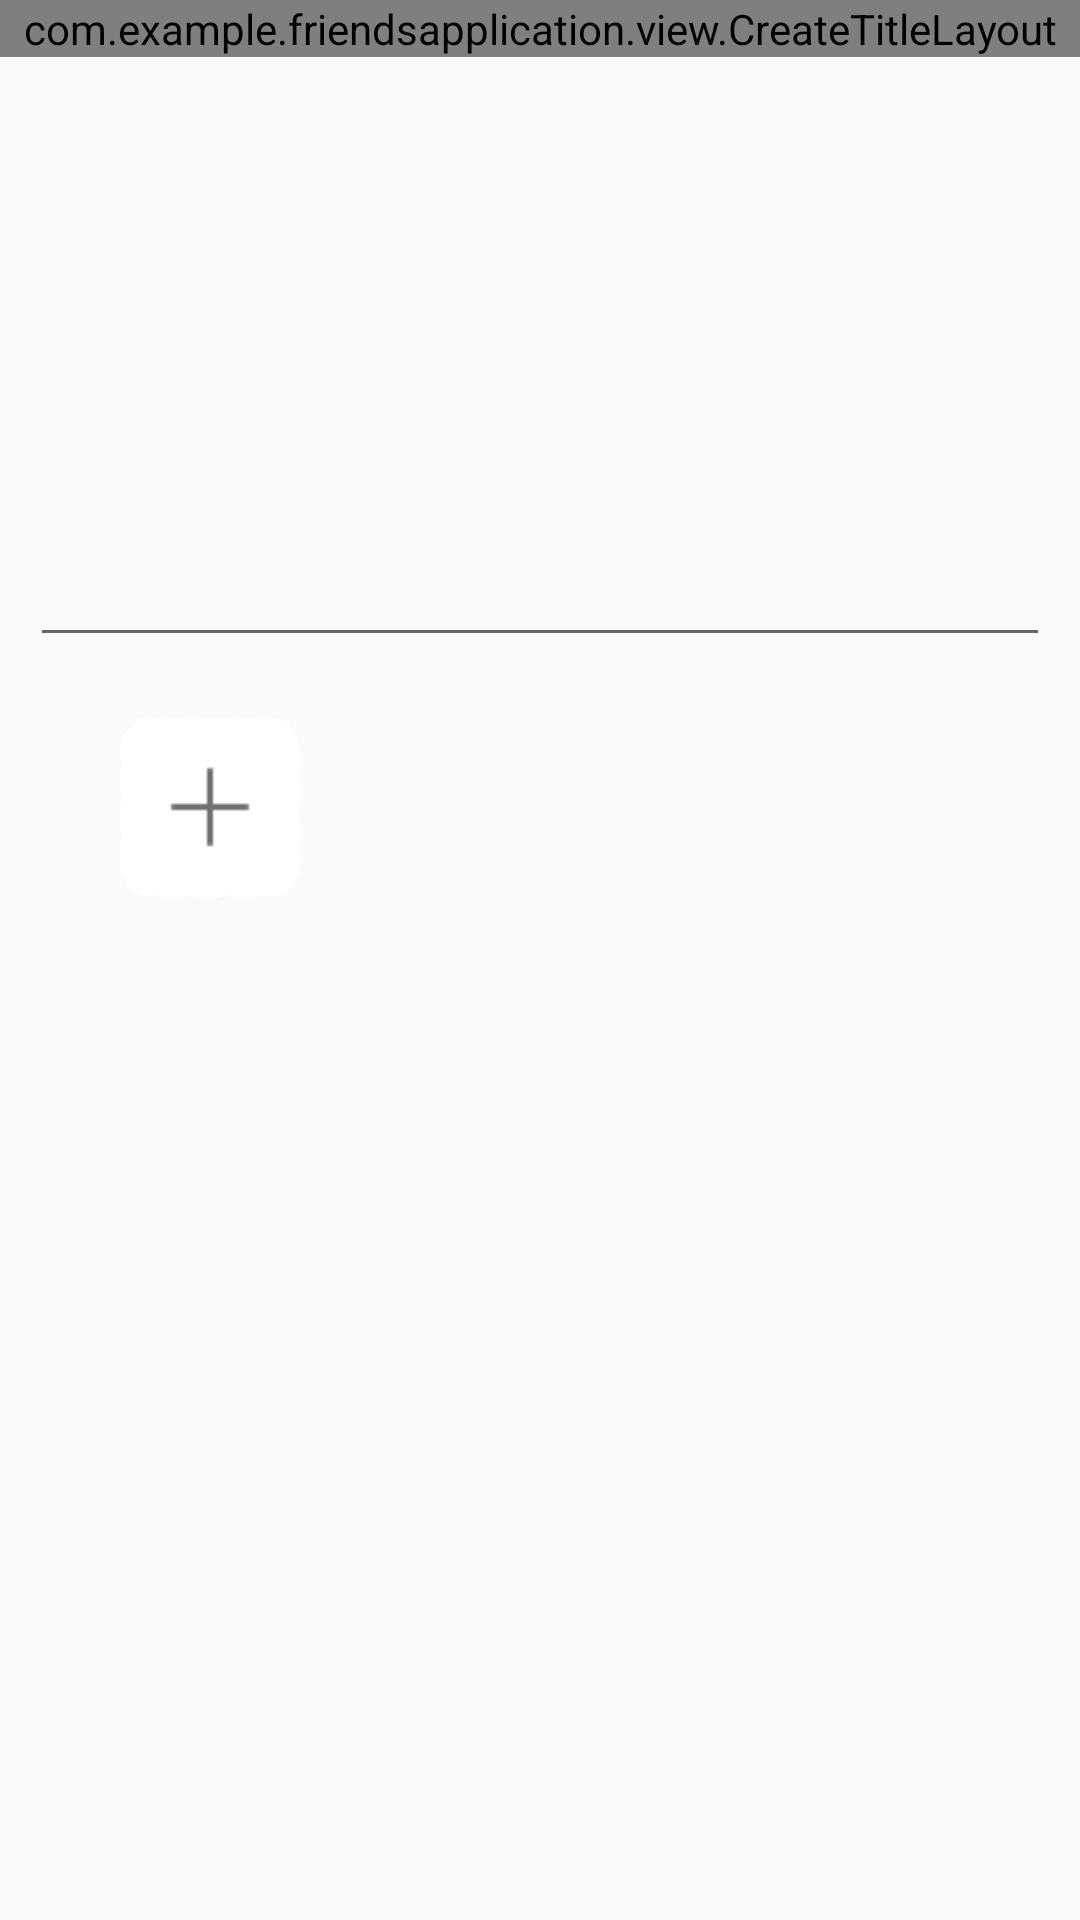

Named icons in this screenshot (1080 x 1920) and their centers, [x,y]:
add: [210,807]
